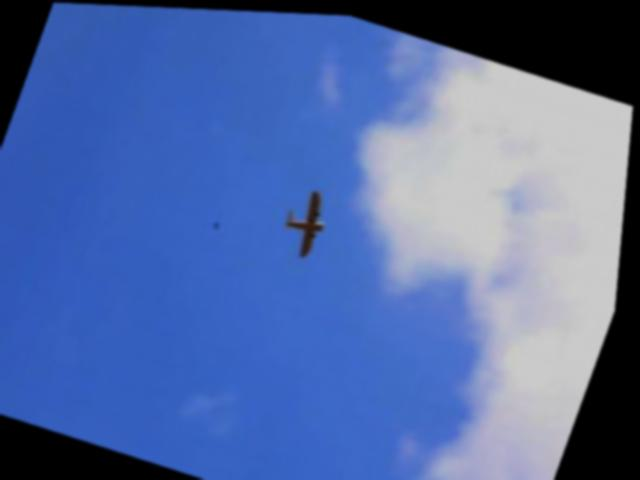uav: (276, 181, 341, 264)
